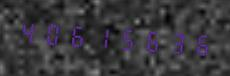five: (113, 19, 136, 57)
four: (17, 13, 40, 50)
one: (89, 18, 112, 55)
six: (65, 16, 88, 54), (137, 21, 160, 59), (185, 24, 208, 62)
three: (161, 23, 184, 60)
zero: (41, 14, 64, 52)
